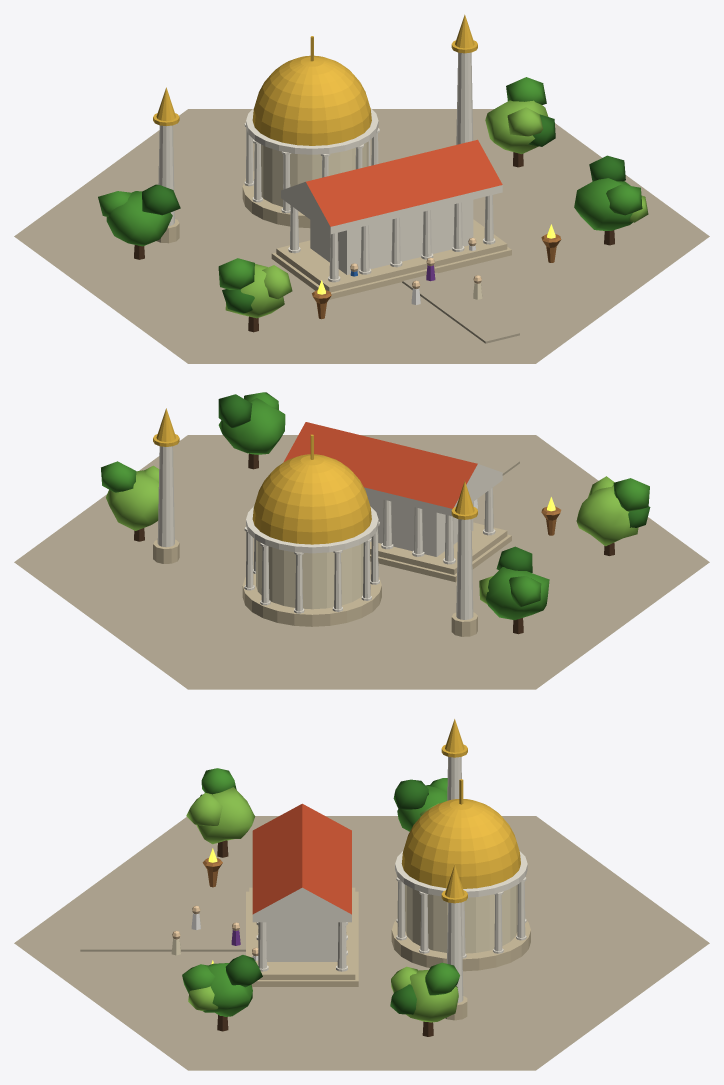
File: district_holy_site_3.fbx
3 views of the same model, one above another, from view 1: azimuth 30°, elevation 25°; view 2: azimuth 150°, elevation 25°; view 3: azimuth 270°, elevation 25° (orthographic).
Parts seen in each view (by area): view 1: district_holy_site_3; view 2: district_holy_site_3; view 3: district_holy_site_3.
Part boxes in pixels (box(x1,y1,x2,y2)): district_holy_site_3: box(14, 14, 709, 363); district_holy_site_3: box(14, 392, 709, 689); district_holy_site_3: box(14, 719, 709, 1070).
Size of the model in its own units: 182 by 54.4 by 210.
